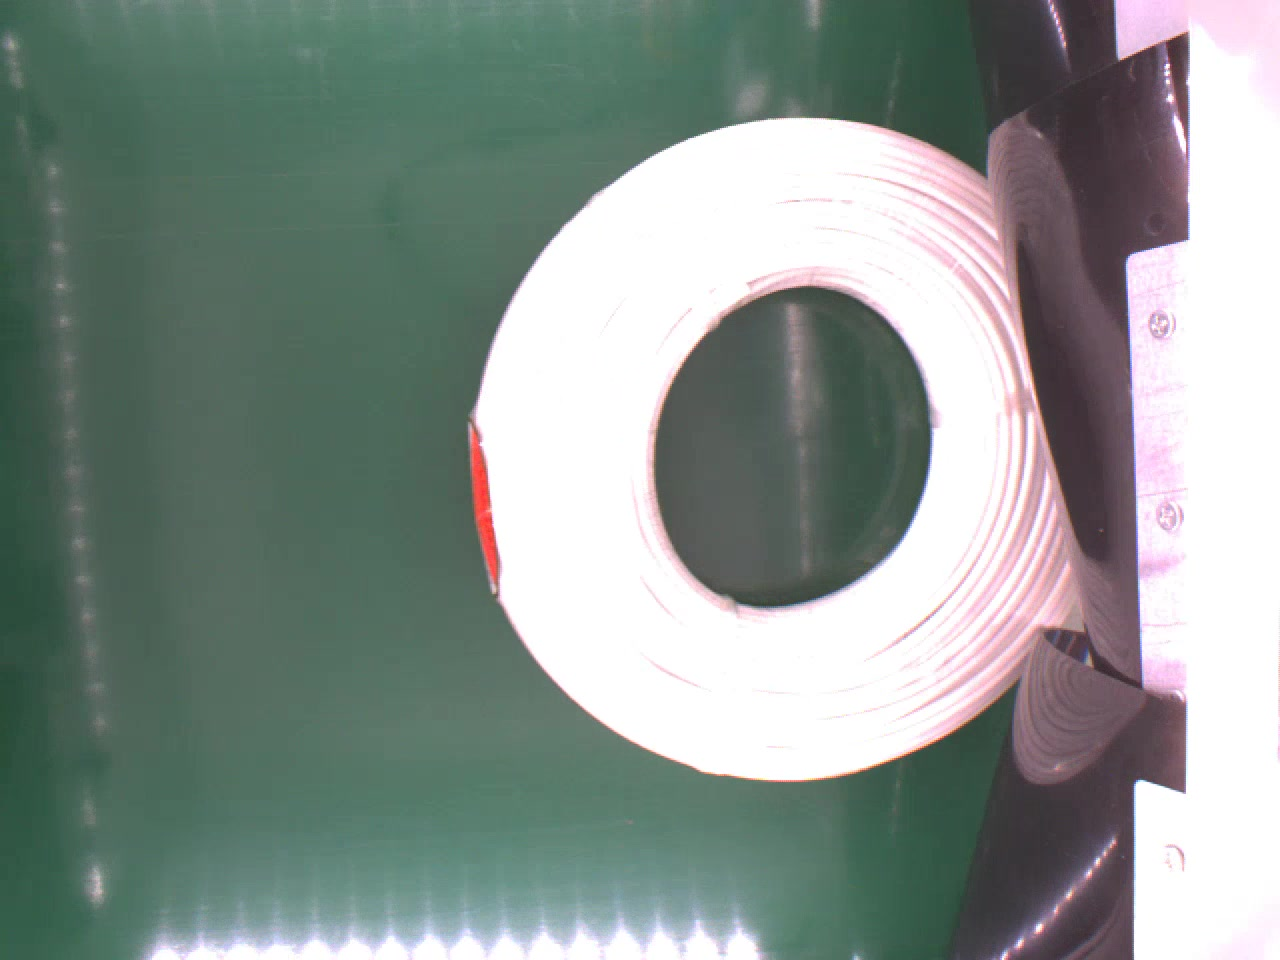white: (465, 113, 1083, 787)
